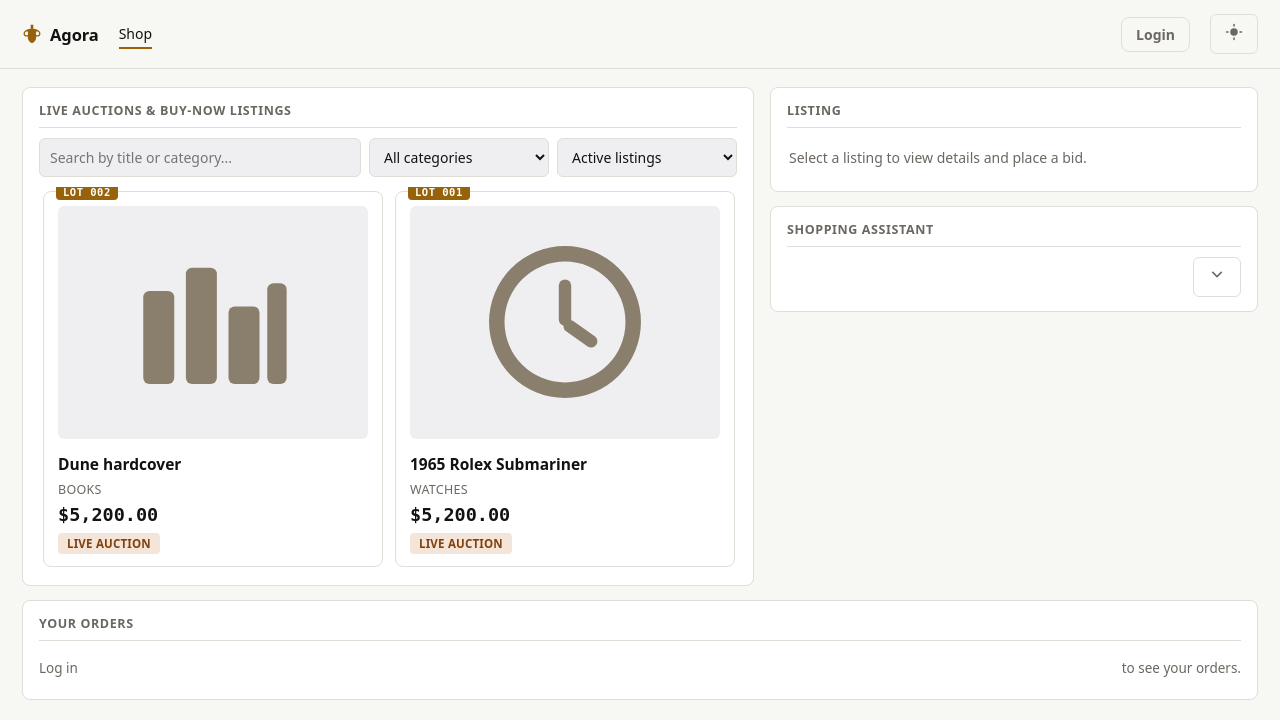
Test: Shop › filters the grid by the search box
Expected: the text "1965 Rolex Submariner" is shown, [410,452,587,474]
Type "dune" into the search field with placeholder "Search by title or category..." at (200, 158), box [39,138,361,177]
(page scrolled)
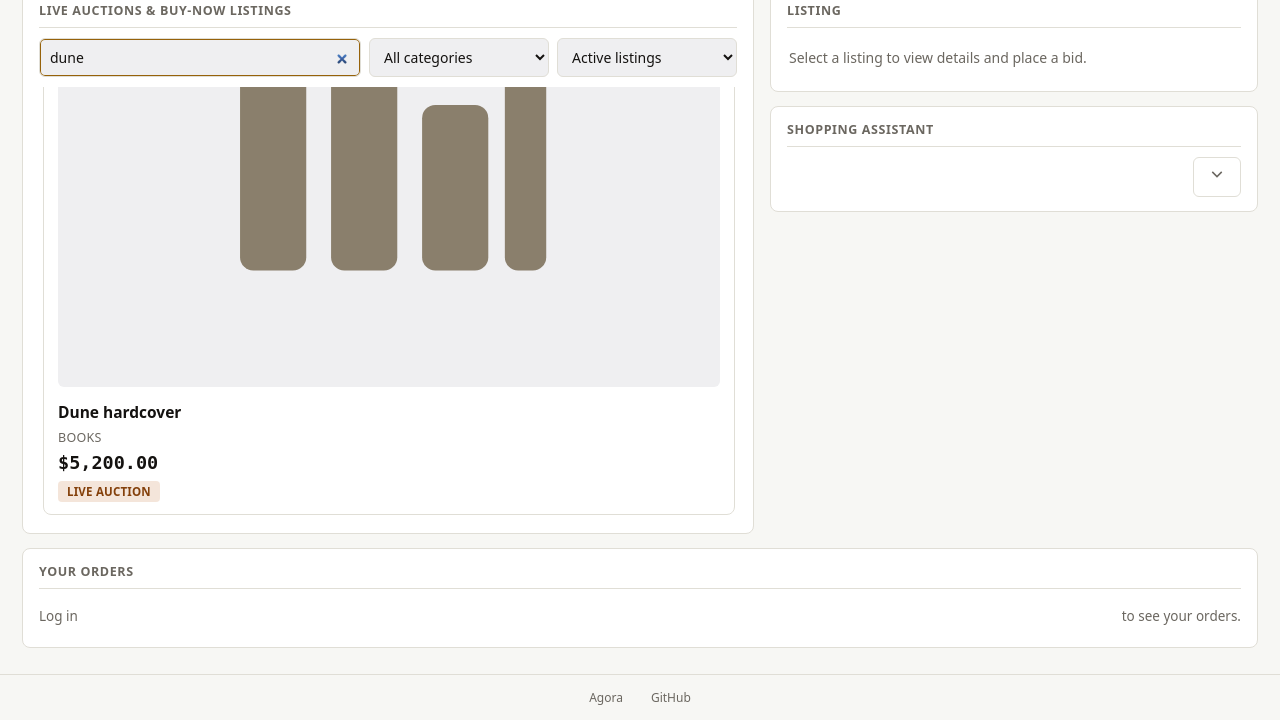
Expected: the text "Dune hardcover" is shown, [58,400,181,422]
Result: the button "1965 Rolex Submariner" is gone
